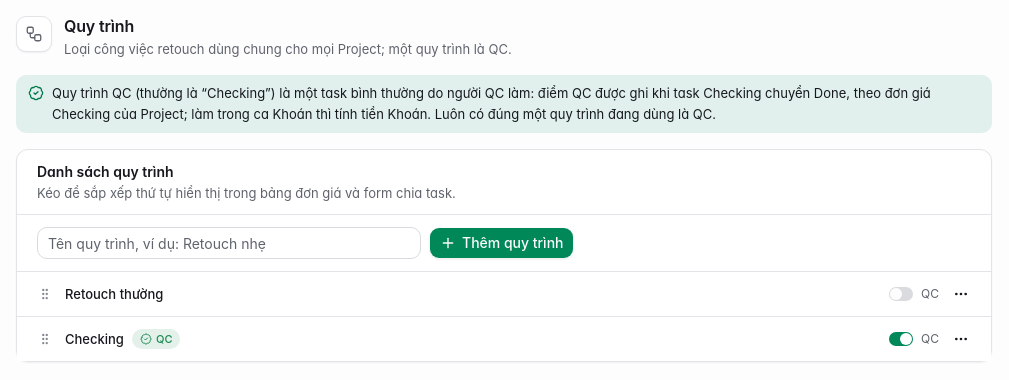
Test case: Cấu hình → Quy trình (PD-050) › stays editable for the superadmin
Click the button "Retouch thường": (114, 294) [65,285,881,304]
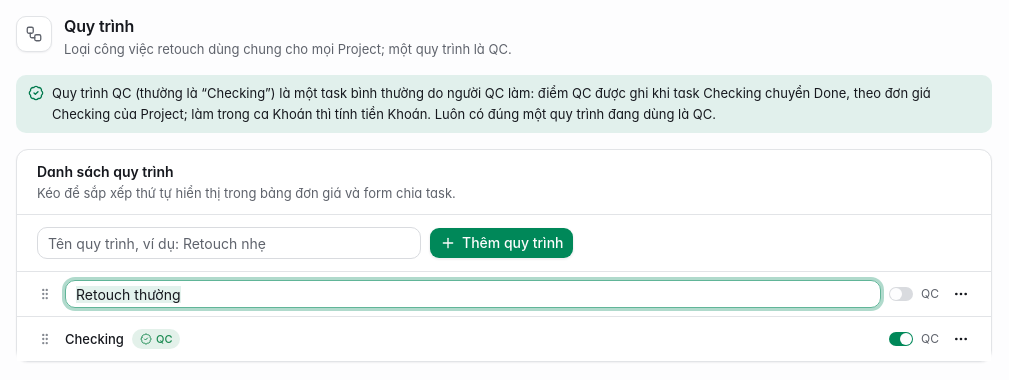
Expected: the field named "Tên quy trình mới" is shown, [37,227,421,259]
Expected: the field named "Tên mới cho quy trình Retouch thường" is shown, [65,280,881,308]
